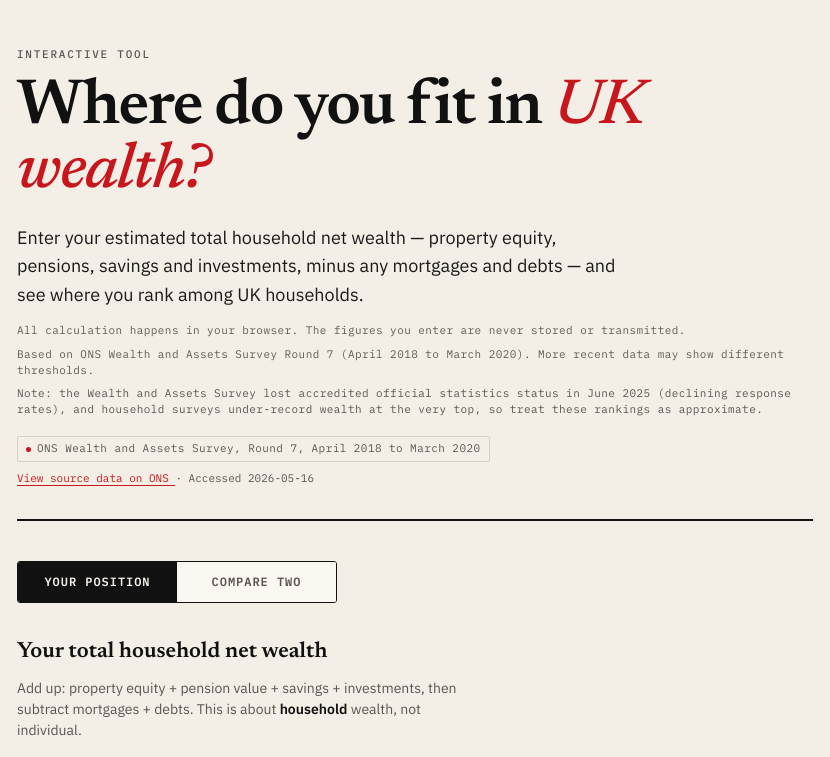
Test: WealthCalculator — compare mode results › shows correct difference when A is higher than B
The width and height of the screenshot is (830, 757).
Click the tab with id "tab-compare": (256, 582) [177, 562, 336, 602]
(page scrolled)
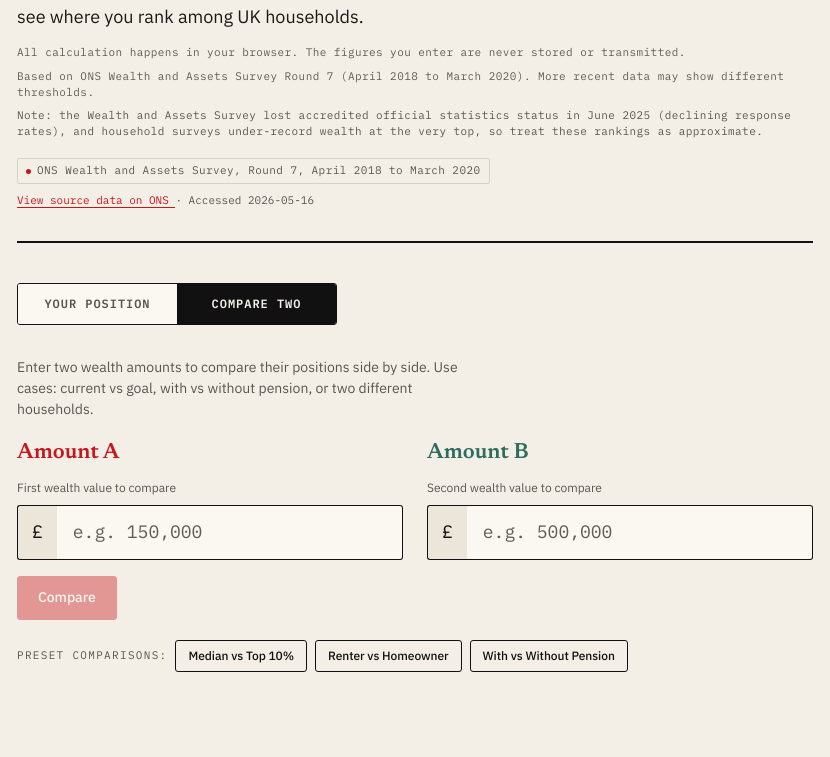
In the field with id "compare-input-a": (230, 532) [57, 505, 403, 560], type "1500000"
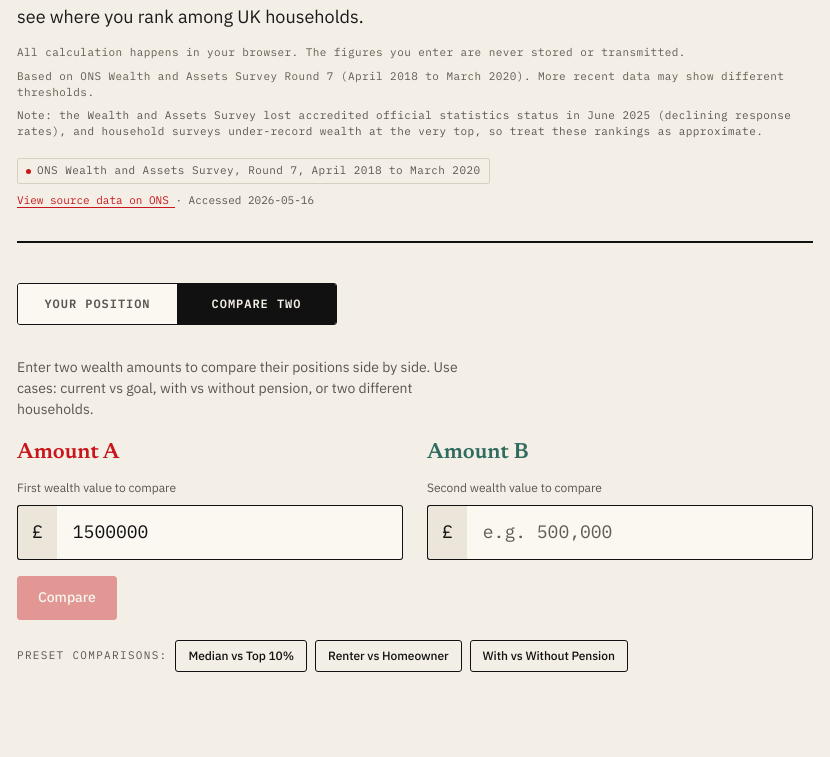
In the field with id "compare-input-b": (640, 532) [467, 505, 813, 560], type "100000"
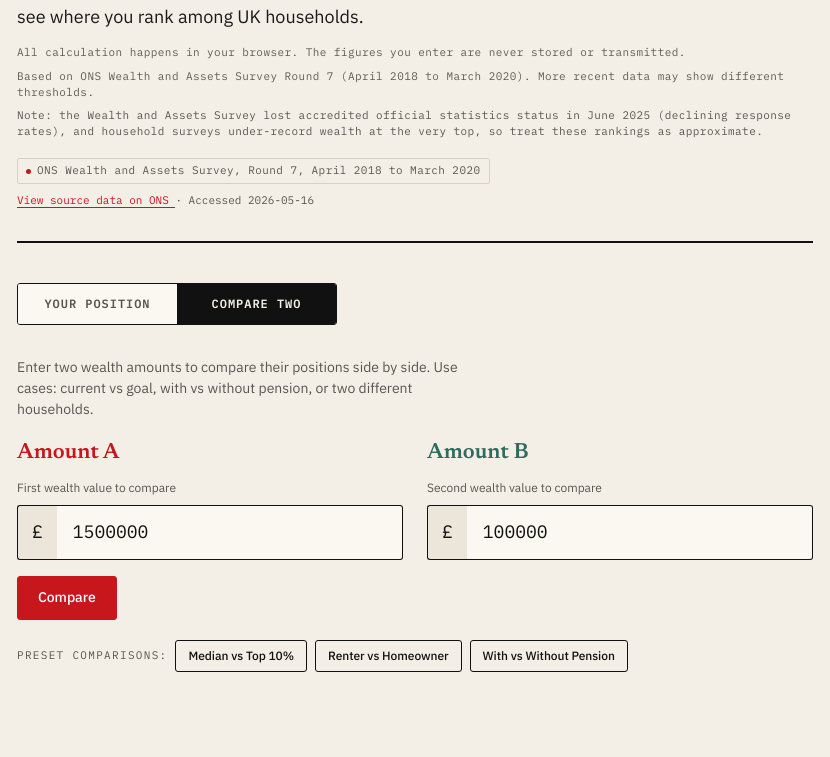
Click the button with class "calc__btn--compare": (67, 598) [17, 576, 117, 620]
(page scrolled)
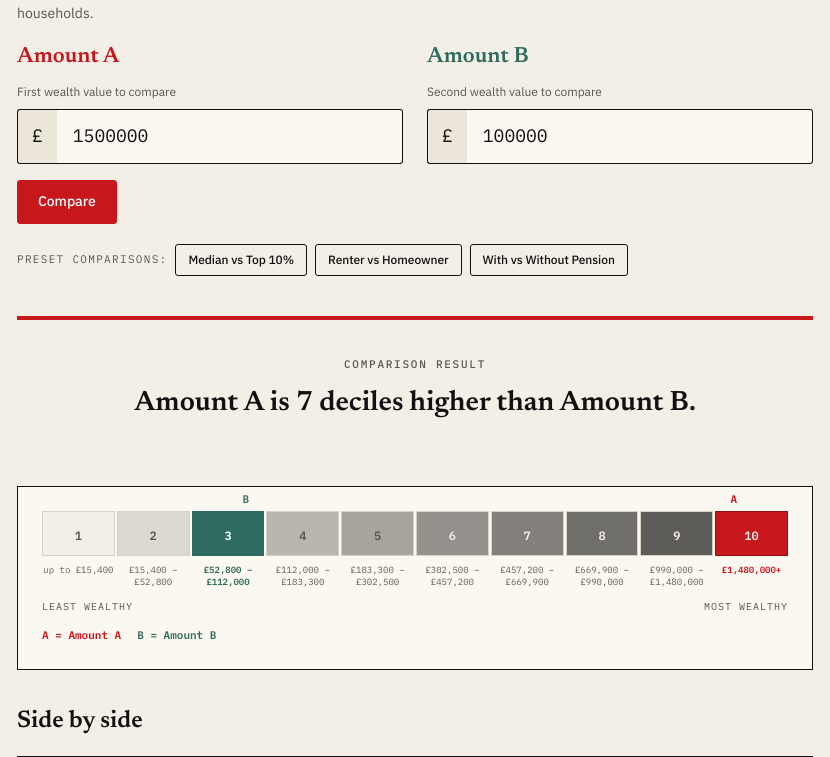
Expected: the text with class "calc__compare-summary" shows "Amount A is 7 deciles higher than Amount B", [134, 389, 696, 417]
